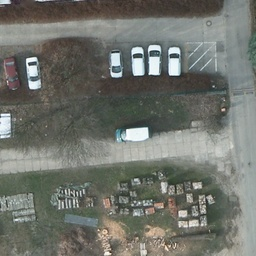car: (0, 54, 20, 90), (25, 56, 42, 88), (108, 48, 124, 77)
van: (115, 126, 150, 143), (167, 46, 183, 77), (146, 46, 162, 76), (131, 44, 144, 78)
